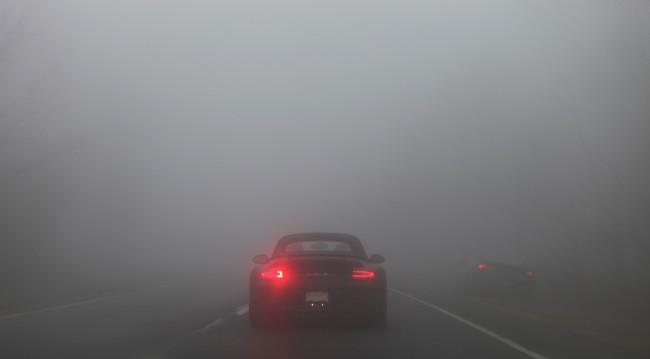car: (246, 231, 388, 333), (454, 254, 535, 298)
